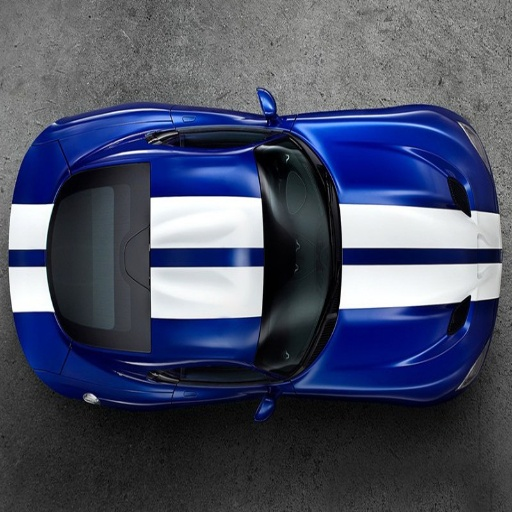back_bumper: (19, 311, 484, 411)
tailgate: (232, 187, 327, 349), (63, 276, 152, 353)
